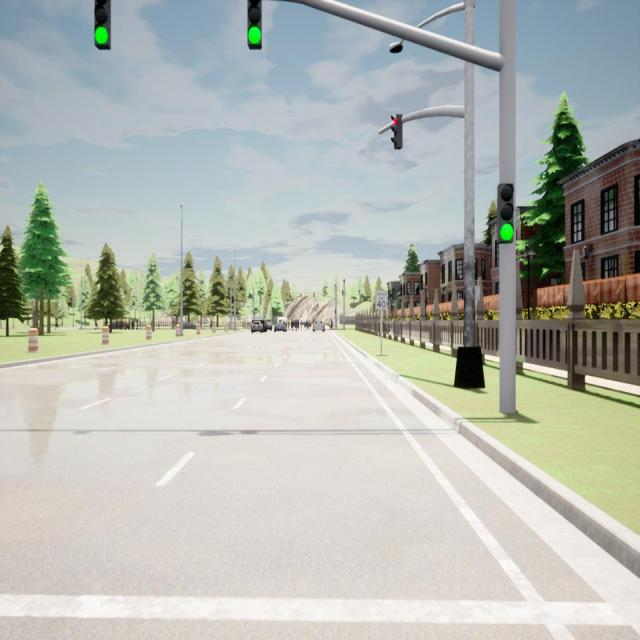Pedestrian: (54, 316, 60, 330), (123, 317, 128, 330), (130, 317, 135, 330), (209, 316, 213, 330), (305, 318, 310, 329), (290, 318, 294, 331), (330, 318, 334, 331), (172, 317, 176, 330), (94, 320, 99, 330), (294, 320, 298, 331), (287, 319, 290, 332), (128, 317, 131, 330), (120, 317, 123, 329), (116, 319, 119, 330), (300, 318, 302, 331), (136, 318, 138, 330)
Traffic_Signs: (378, 292, 386, 309), (237, 315, 240, 320)
Vehicle: (251, 321, 263, 334), (313, 320, 326, 332), (183, 320, 196, 330), (274, 322, 286, 332), (263, 321, 272, 332), (292, 320, 300, 330), (278, 316, 288, 322)
traffic_light: (497, 184, 514, 244), (94, 0, 110, 49), (248, 0, 262, 49), (390, 115, 403, 148), (342, 289, 344, 296), (289, 292, 291, 298), (334, 309, 336, 315), (300, 293, 302, 297), (313, 293, 315, 297)
